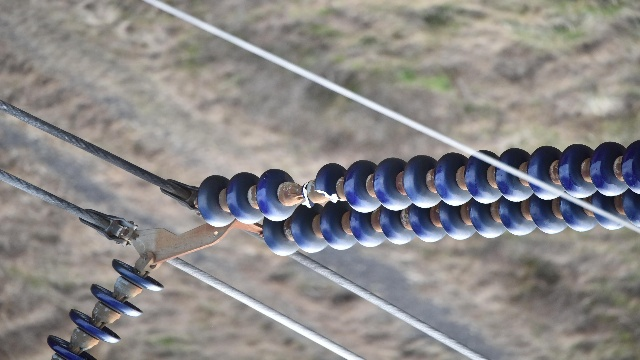broken_local: (314, 184, 340, 205), (296, 179, 313, 210)
insulator_unspecified: (199, 139, 639, 257), (46, 259, 162, 359)
